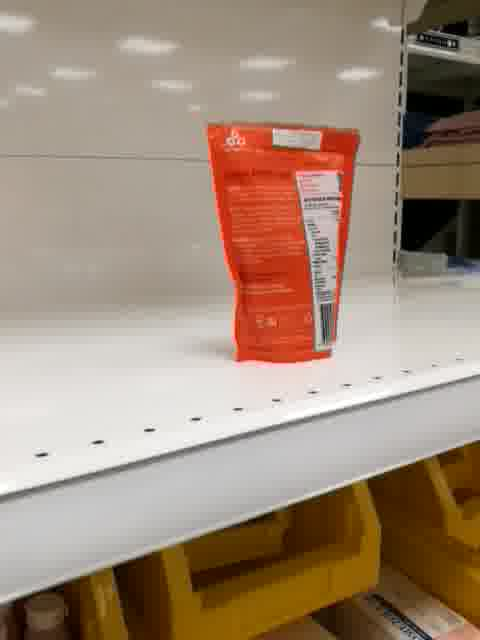whitechia: (203, 119, 363, 367)
